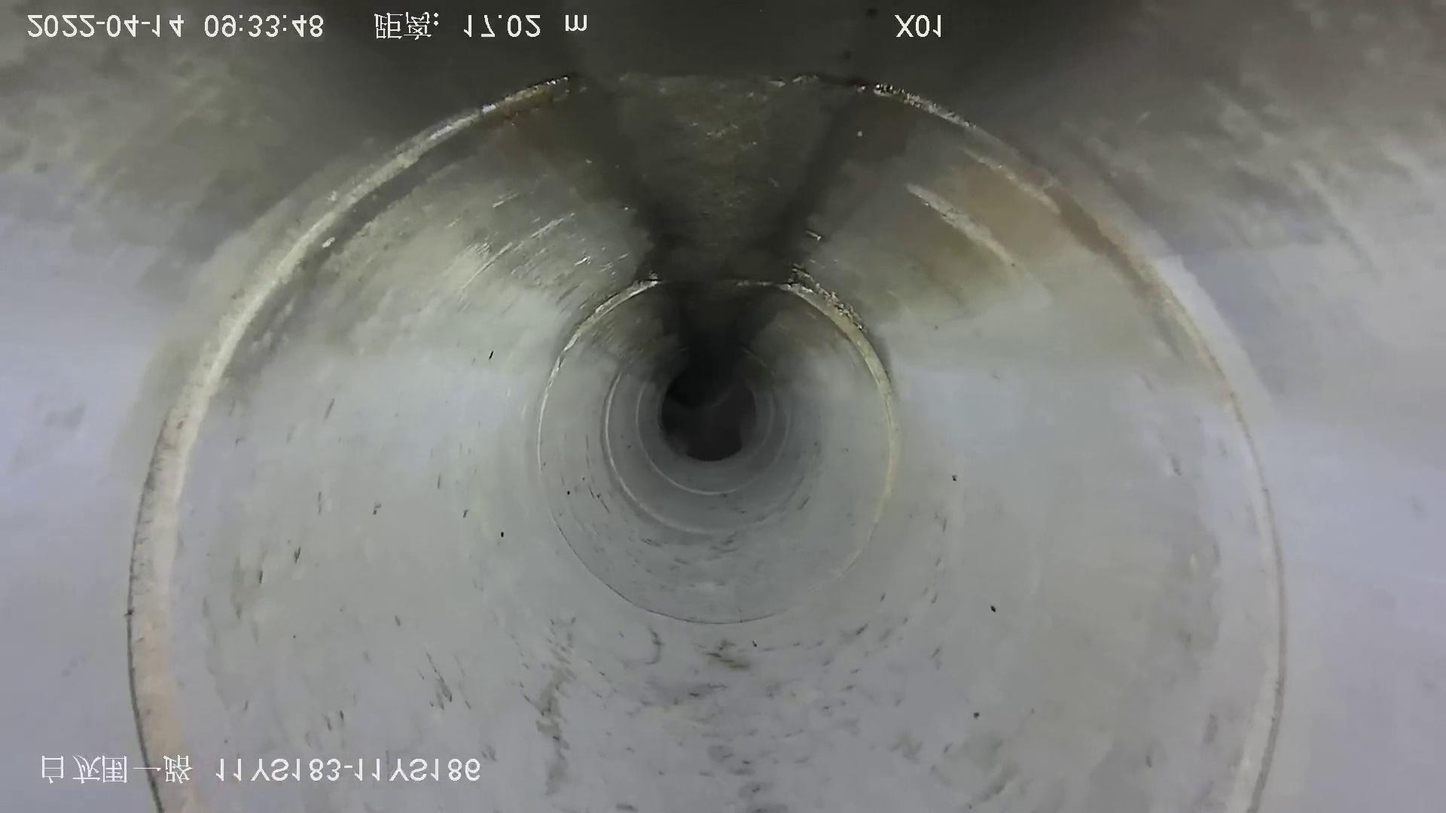CKTJ: (127, 110, 485, 813), (761, 267, 898, 525), (569, 282, 655, 343)
